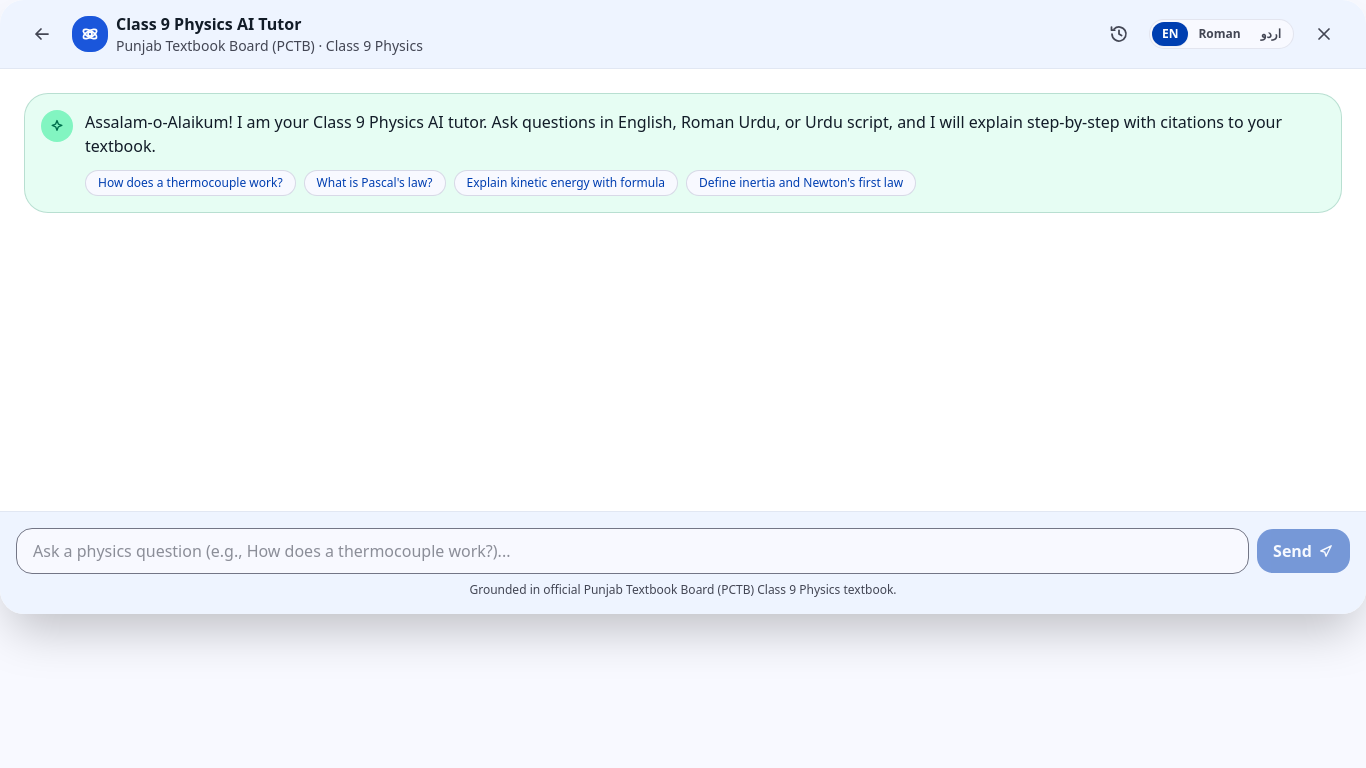
Test: PhysicsChatView › displays error message and retry button on network failure
Replace the text in the field with placeholder "Ask a physics question (e.g., How does a thermocouple work?)..." with "Force formula" at (633, 551), box [16, 528, 1249, 574]
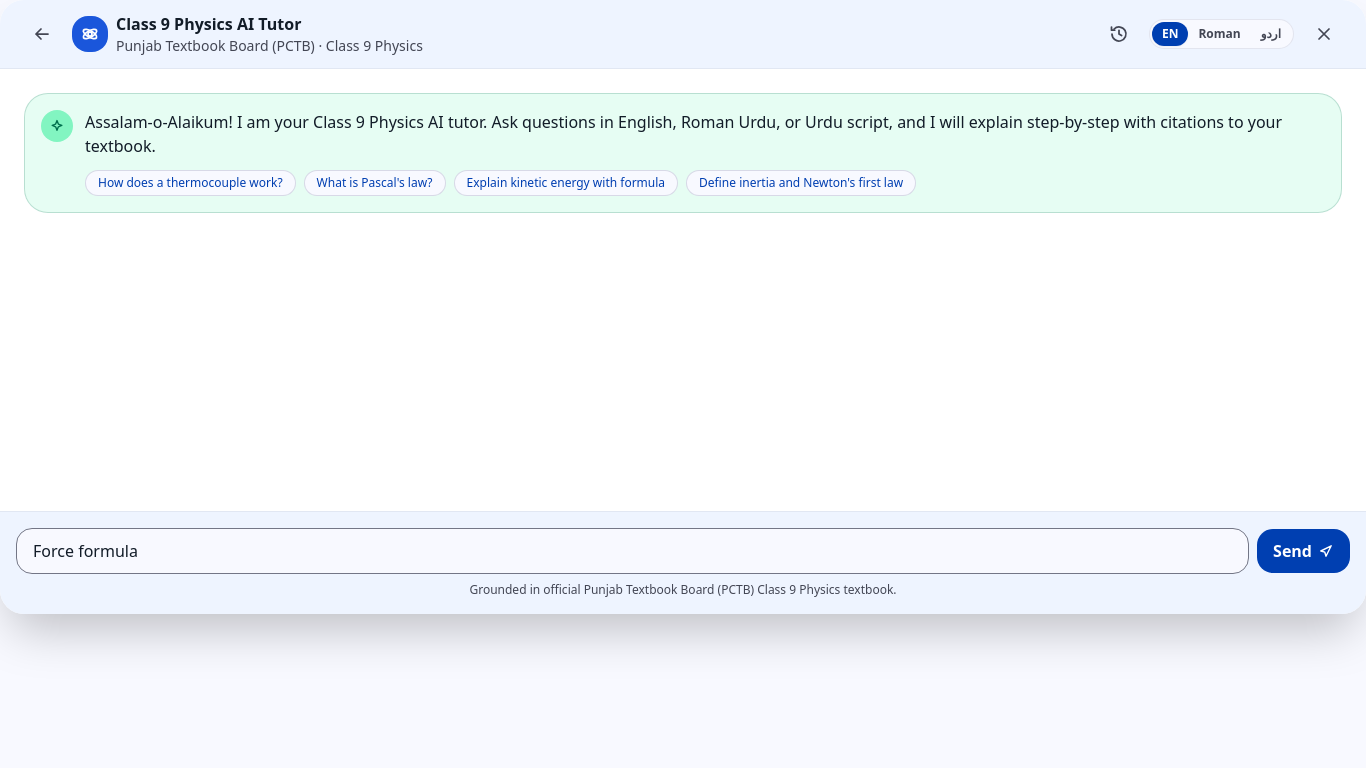
Click the button labelled "Send".
click(1304, 551)  # box [1257, 529, 1350, 573]
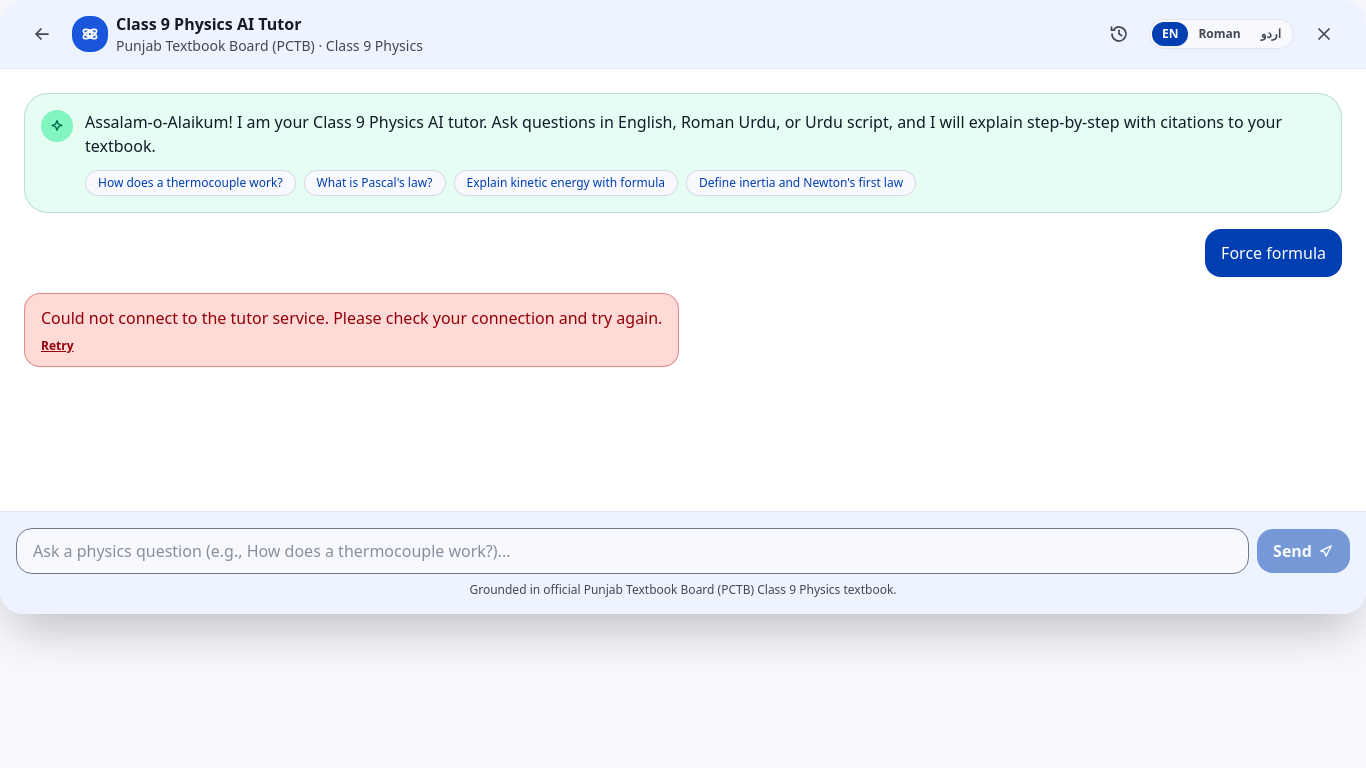
Expected: the text "Could not connect to the tutor service. Please check your connection and try again." is shown, [41, 307, 662, 329]
Expected: the button "Retry" is shown
Click the button "Retry".
click(57, 346)  # box [41, 338, 74, 354]
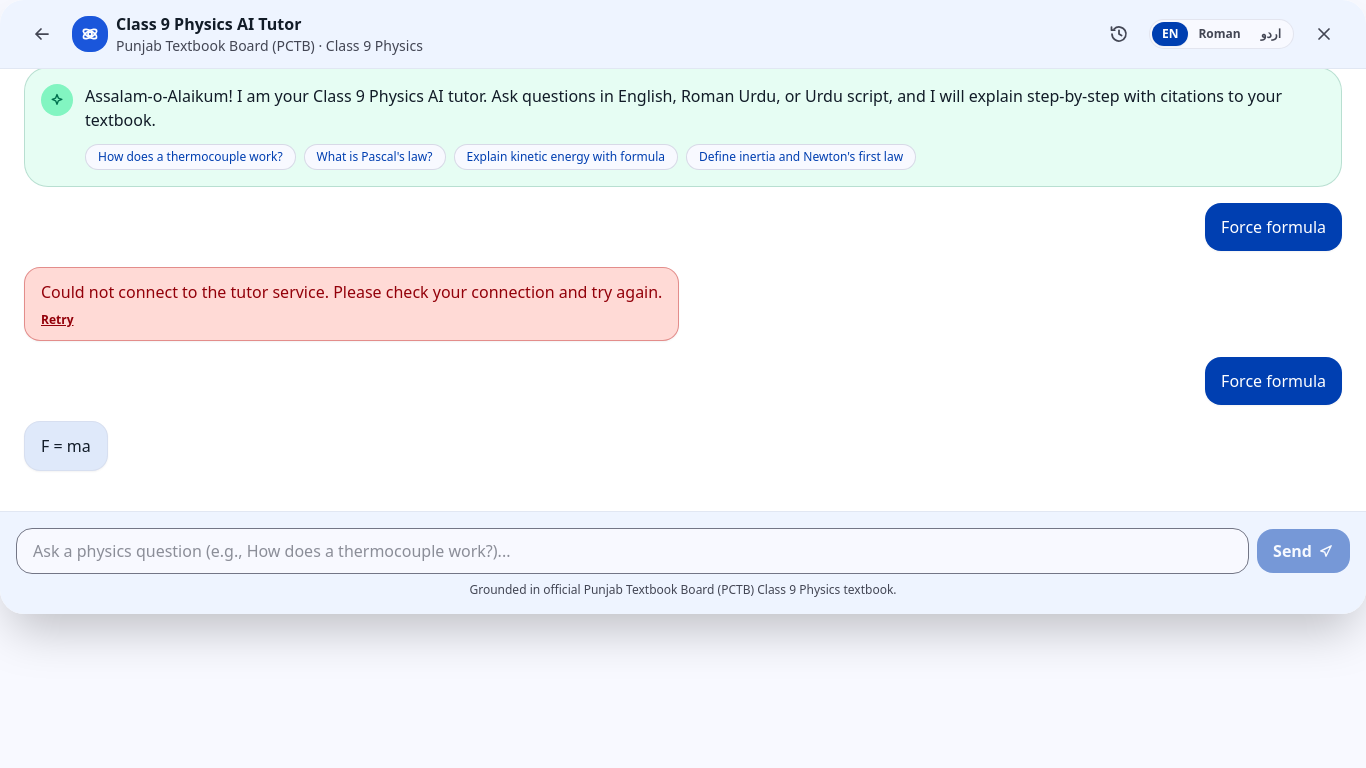
Expected: the text "F = ma" is shown, [41, 434, 91, 458]
